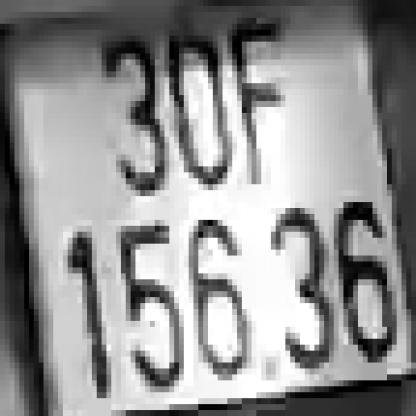0: (170, 36, 228, 190)
1: (58, 220, 121, 398)
3: (266, 208, 329, 368), (102, 36, 154, 202)
5: (121, 220, 184, 386)
6: (184, 208, 251, 374), (329, 196, 392, 357)
F: (232, 24, 290, 178)
